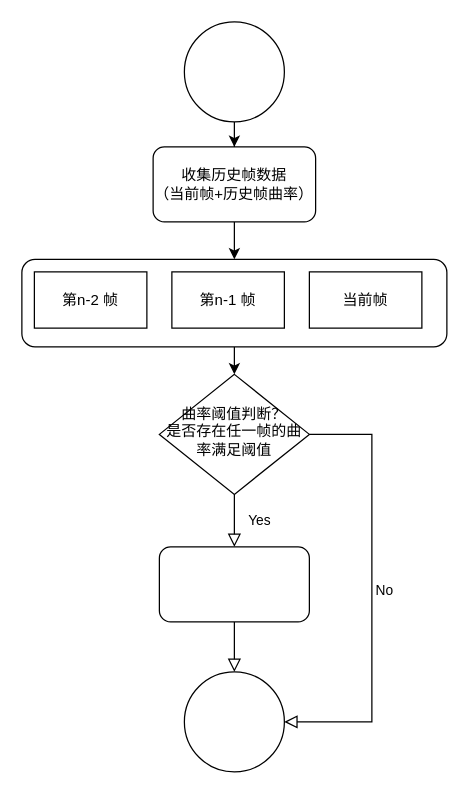
Some shapes in this 469 by 794 pixel diagram are drawn without their labels. The shapes that lost their labels are listed below. From the top down, each one's centre as x and y in pixels, then its label:
At point 233,71: "开始".
At point 233,584: "处理violation ranges".
At point 233,721: "结束".
